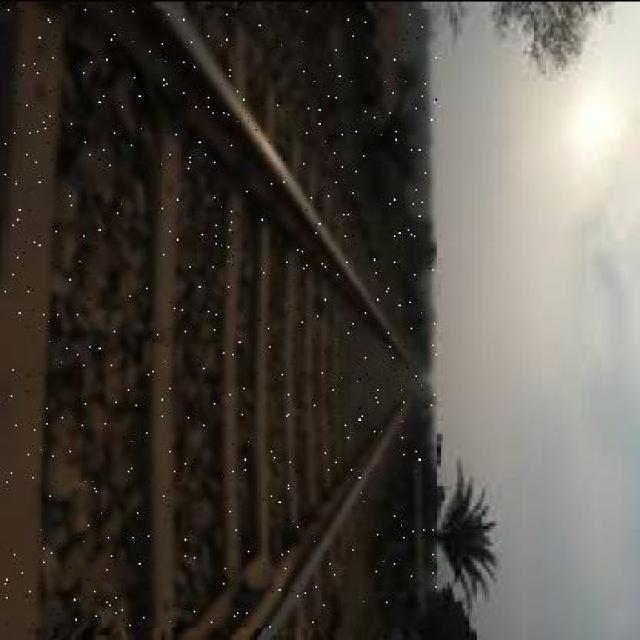rail: (6, 9, 437, 627)
